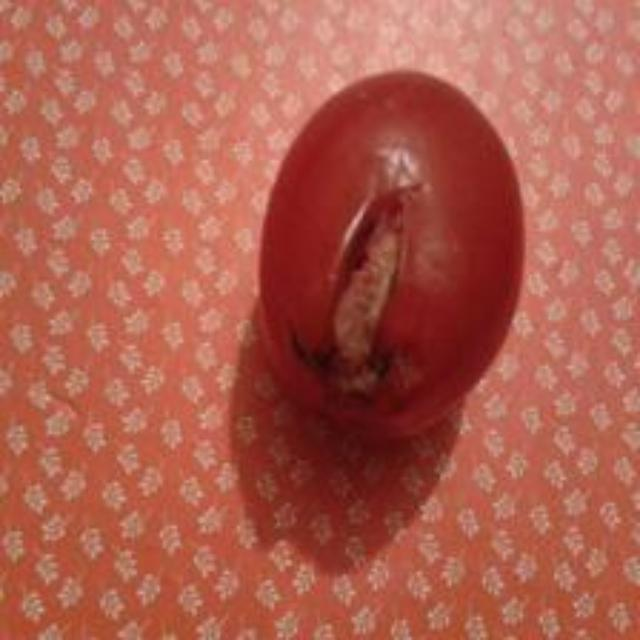defect: (256, 55, 534, 449)
